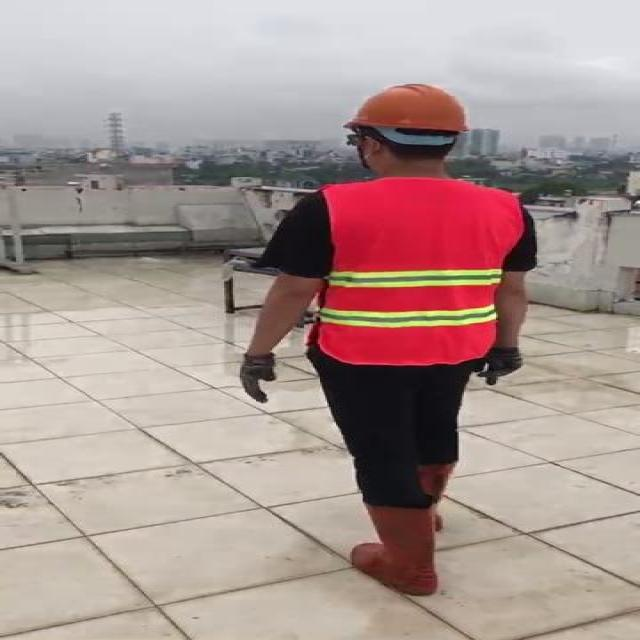boots: (350, 499, 441, 595), (411, 456, 458, 531)
hand_glove: (237, 354, 279, 403), (476, 347, 524, 386)
head_helmet: (335, 80, 483, 138)
person: (220, 75, 542, 600)
vest: (318, 177, 523, 364)
